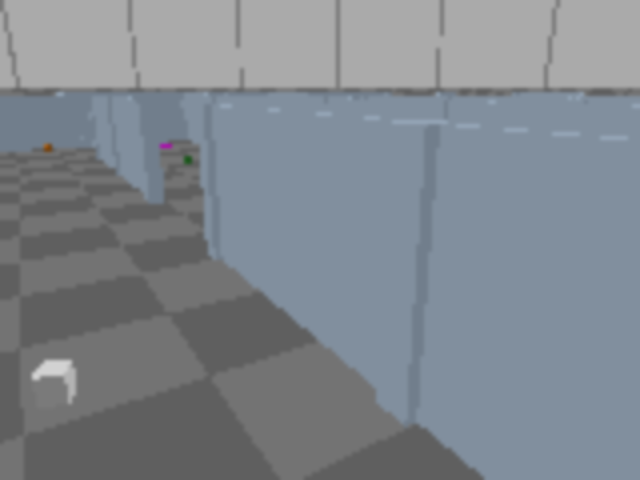puck: (31, 359, 77, 408)
